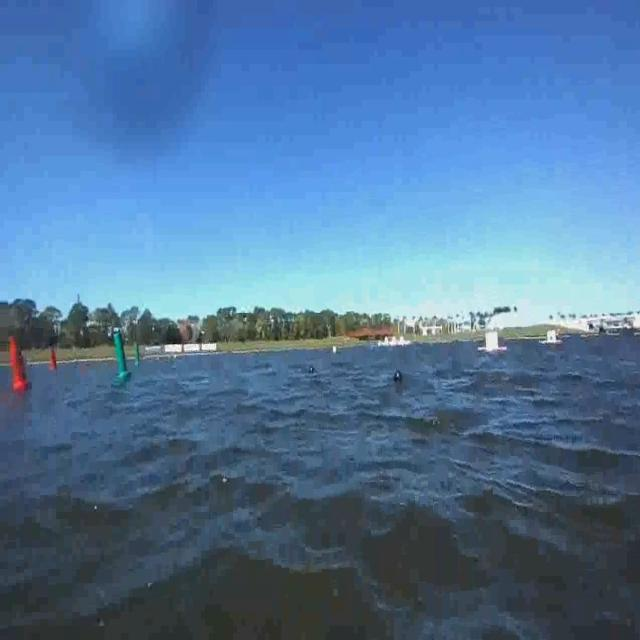black-buoy: (393, 370, 403, 383)
green-column-buoy: (112, 329, 132, 380), (135, 344, 142, 364)
red-column-buoy: (8, 335, 29, 391), (51, 348, 60, 371)
